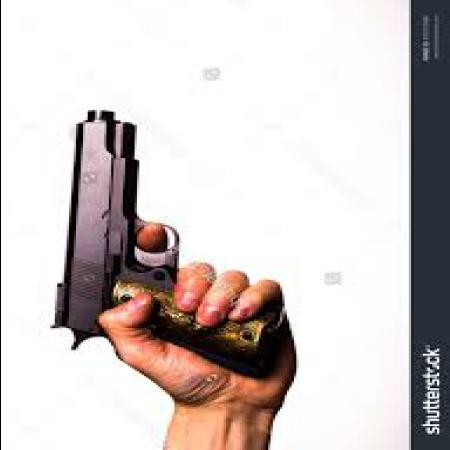Pistol: (42, 109, 286, 372)
